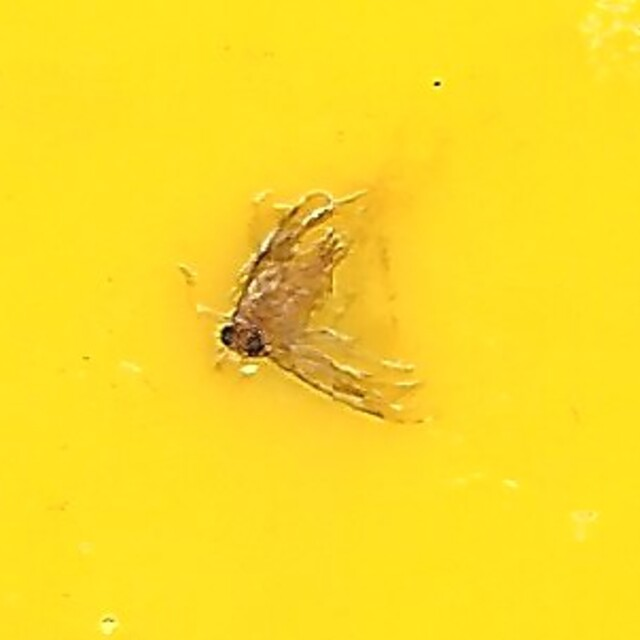Trichoptera: (212, 199, 428, 441)
